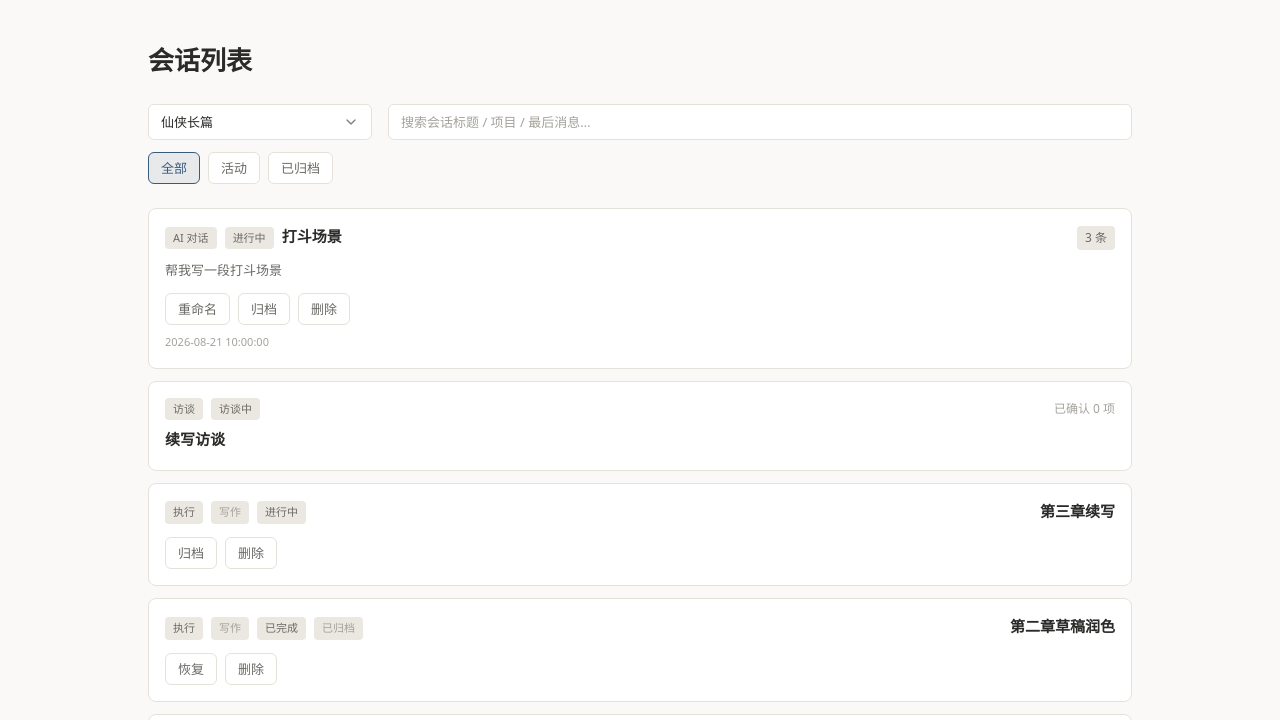
Test: #1015 访谈卡详情弹层（N11，决策点 1 拍板 A） › drafting 访谈卡也可点开（状态不限：访谈中/已完成/已跳过）
Click the button with test id "session-title-pl-drafting" at (195, 441), box [165,428,225,454]
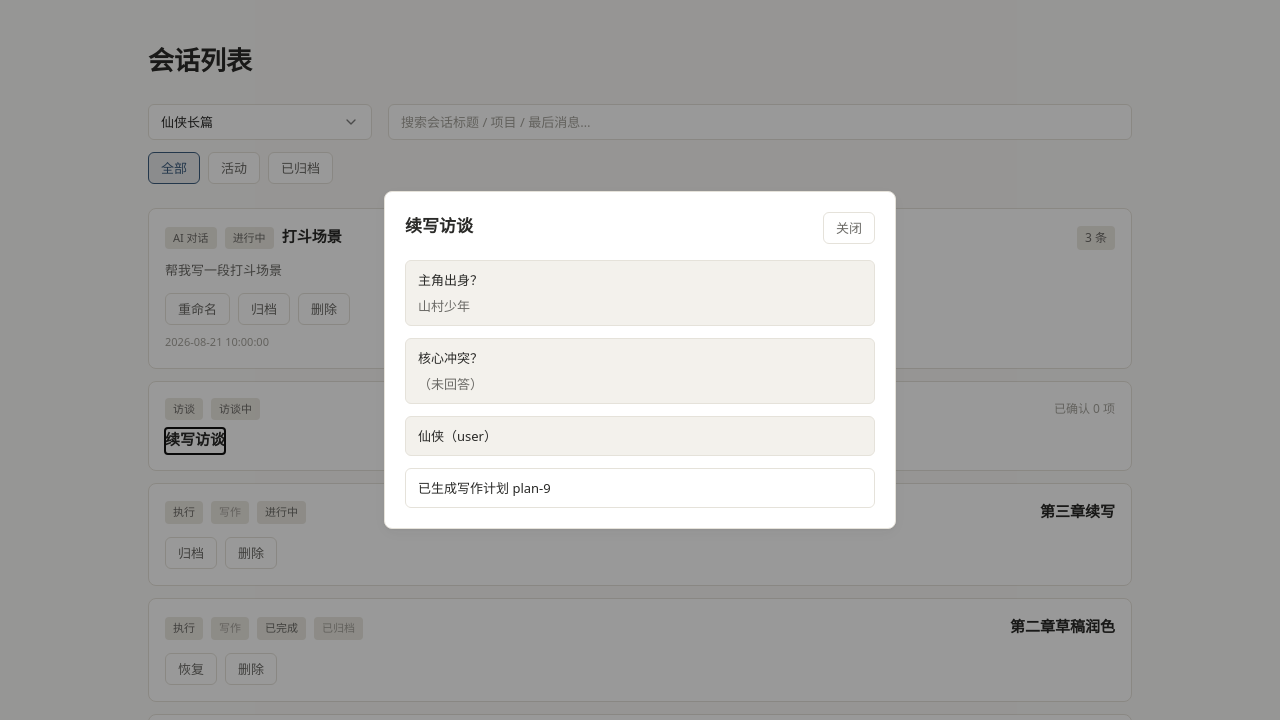
Expected: the dialog with test id "session-detail-dialog" is shown, [384,191,896,529]
